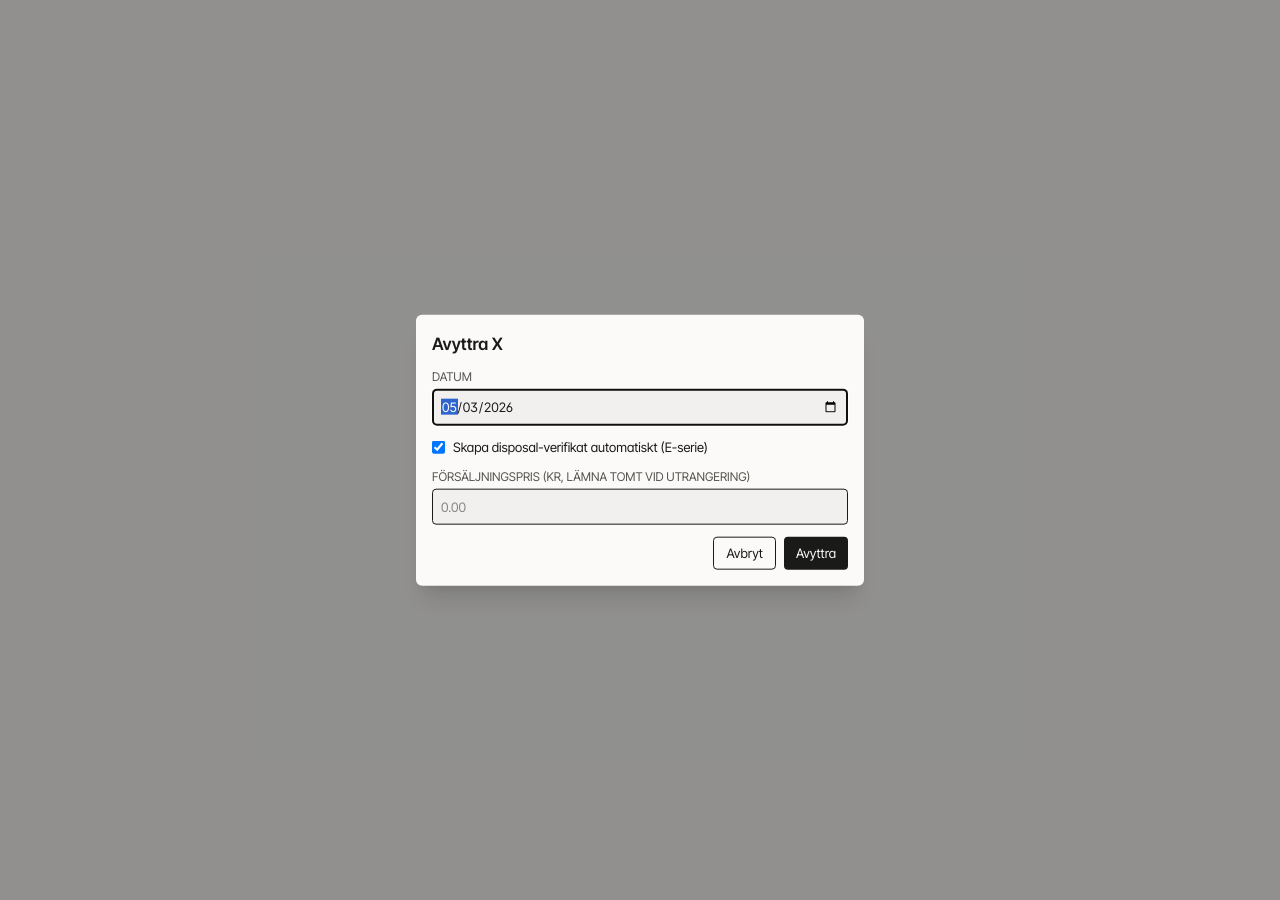
Test: DisposeDialog › uncheck generate-entry döljer pris- och konto-fält
Click the checkbox with test id "dispose-generate-entry" at (438, 447), box [432,440,445,453]
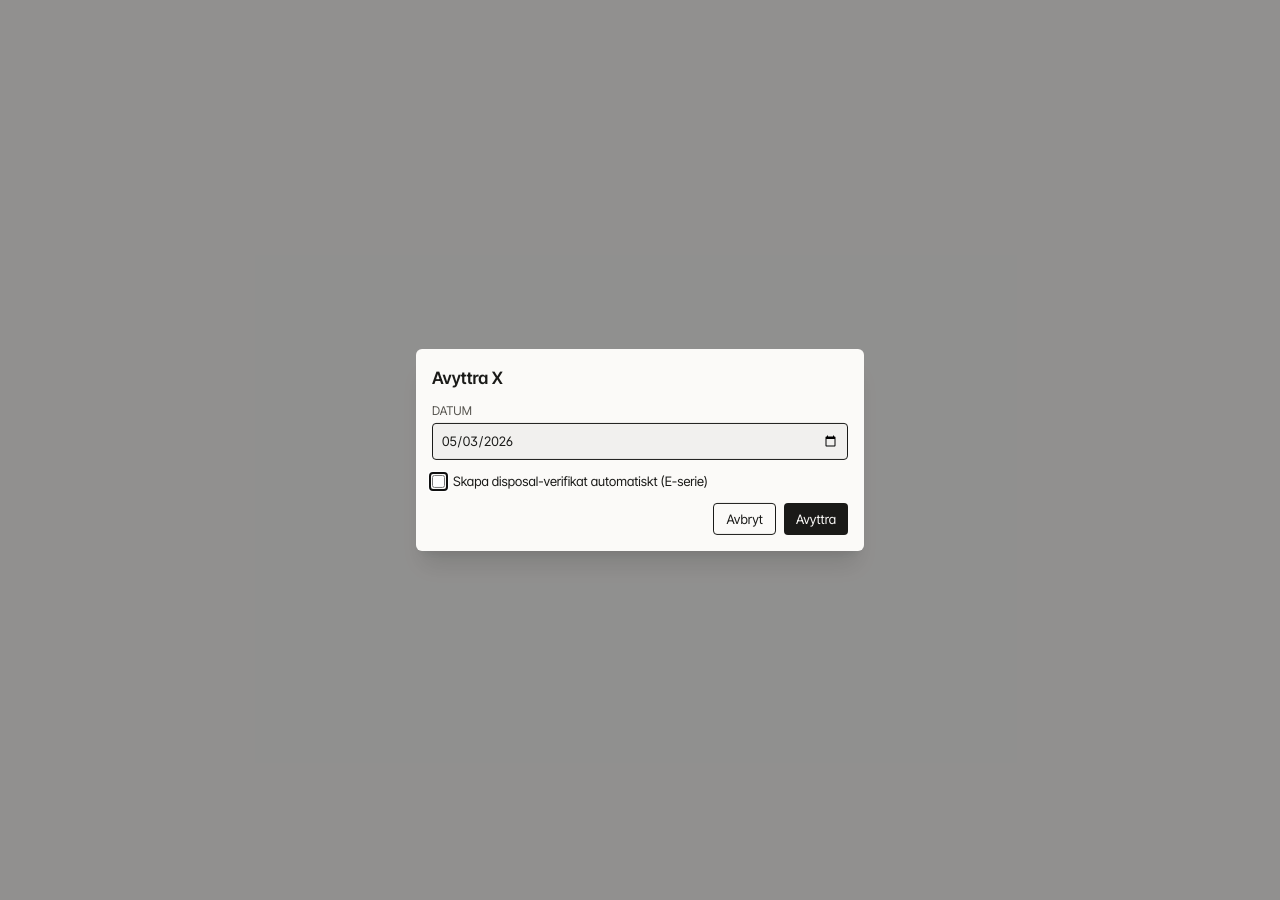
Check: the field with test id "dispose-sale-price" is gone
